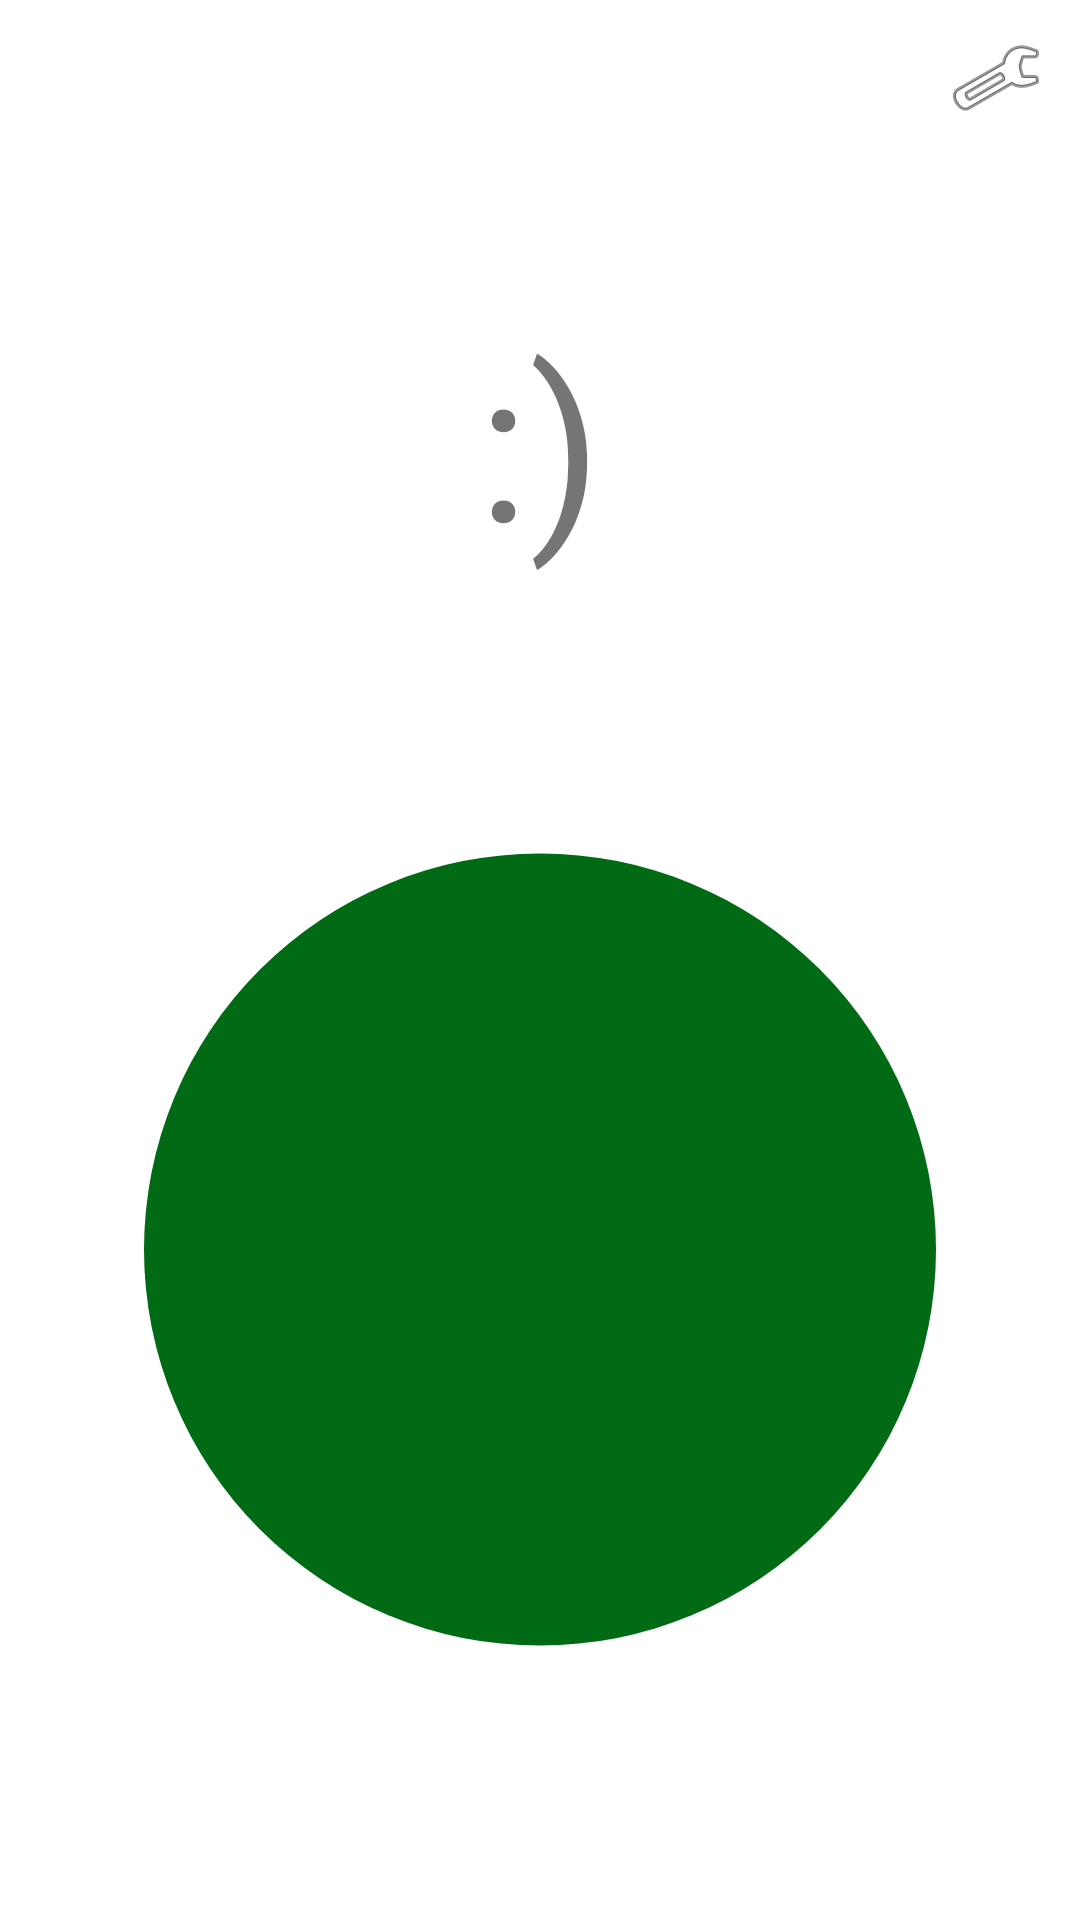

Named icons in this screenshot (1080×1920) and their bounding boxes, (x1, y1, x2, y2):
Open Settings: (953, 45, 1039, 111)
